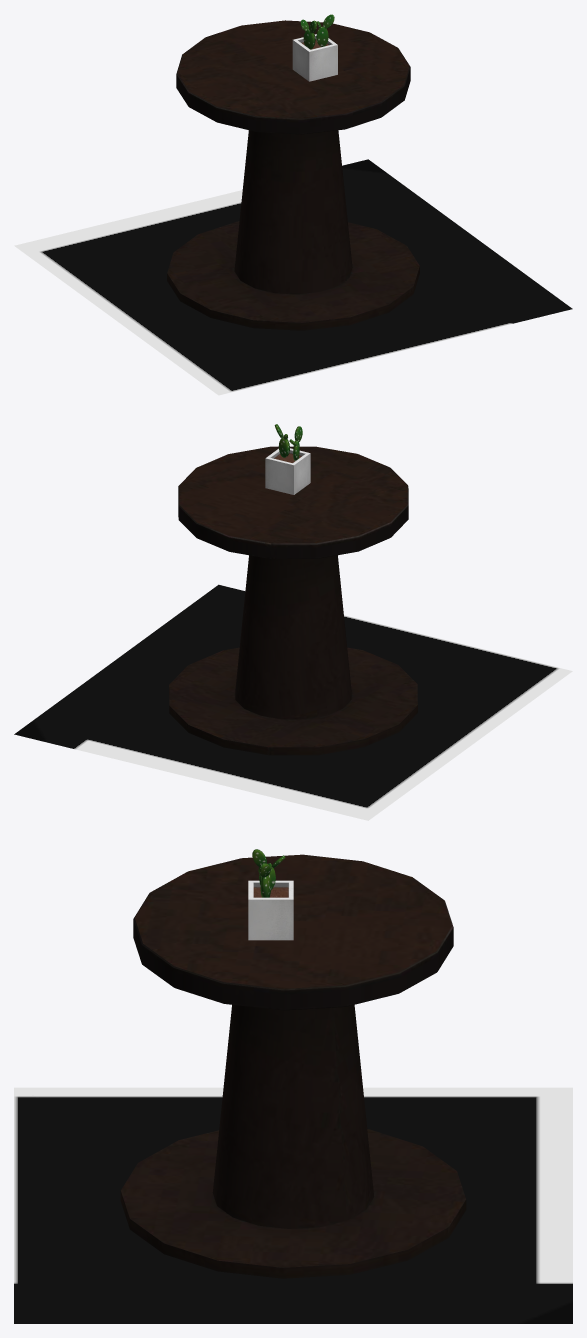
File: table_2.fbx
3 views of the same model, one above another, from view 1: azimuth 30°, elevation 25°; view 2: azimuth 150°, elevation 25°; view 3: azimuth 270°, elevation 25° (orthographic). The views are drawn at different scales.
Parts seen in each view (by area): view 1: table_2; view 2: table_2; view 3: table_2.
Part boxes in pixels (left/top/right/bottom): table_2: left=14, top=14, right=572, bottom=395; table_2: left=14, top=424, right=572, bottom=820; table_2: left=14, top=849, right=572, bottom=1323.
Bounding box in the file's own units: 1.5 × 1.08 × 1.5.
